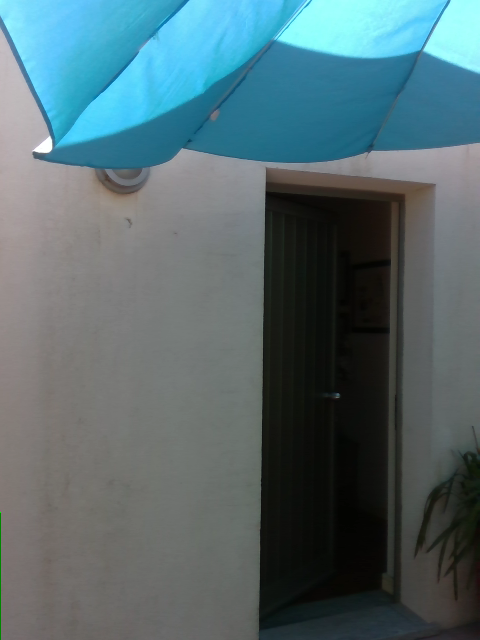semi: (258, 167, 438, 628)
